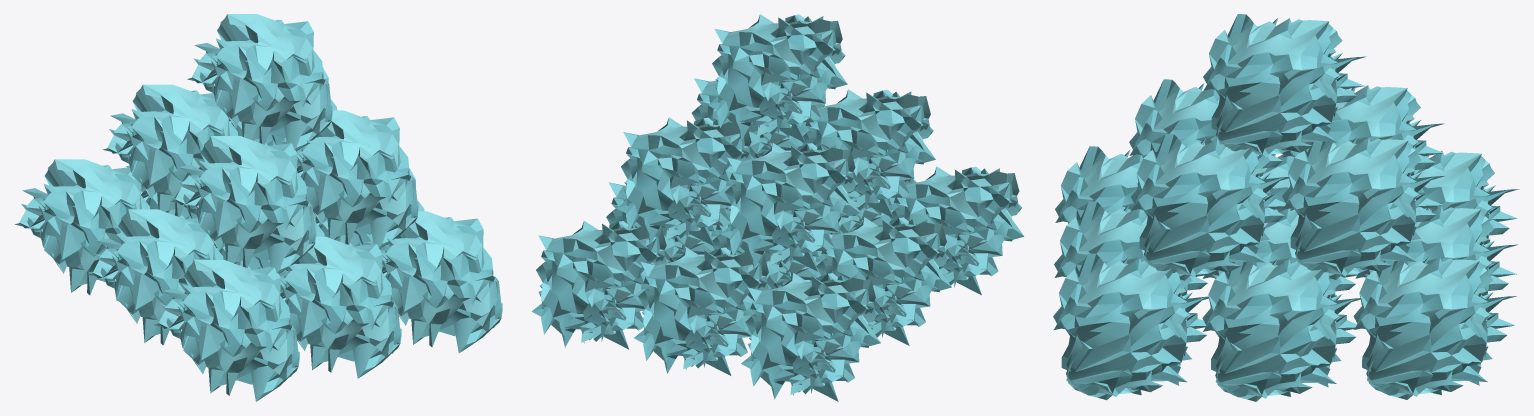
File: OrePile_Luminous.glb
The picture shows the model from 3 angles, left to right: view 1: azimuth 30°, elevation 25°; view 2: azimuth 150°, elevation 25°; view 3: azimuth 270°, elevation 25°; orthographic projection. The views are drawn at different scales.
Visible parts, largest first — view 1: OrePile_Luminous; view 2: OrePile_Luminous; view 3: OrePile_Luminous.
Boxes of the visible parts, <box> form: OrePile_Luminous: <box>14,14,502,401</box>; OrePile_Luminous: <box>532,14,1024,401</box>; OrePile_Luminous: <box>1053,14,1519,401</box>.
Size of the model in its own units: 2.79 by 2.48 by 3.31.
Materials: 1 (1 with a texture image).
